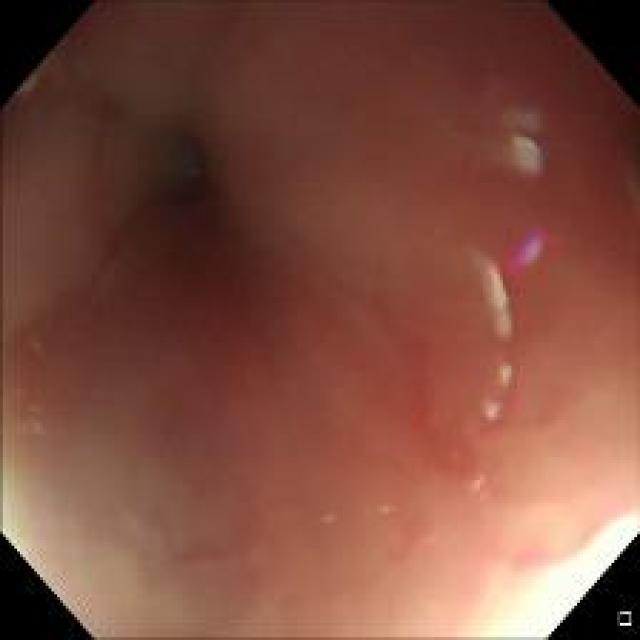color misalignment: (469, 231, 550, 345), (499, 95, 552, 188), (475, 358, 515, 429)
contrast: (139, 112, 228, 235)
saturation: (461, 516, 632, 635)
